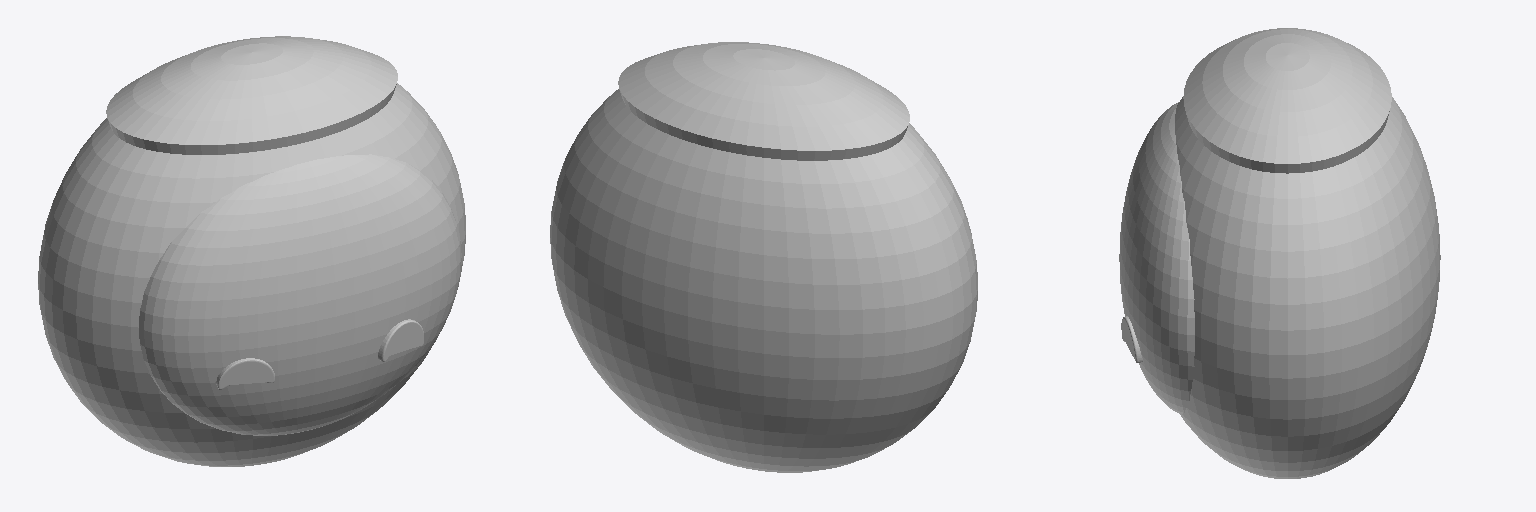
Rendered from Head.obj.
3 views of the same model, side by side, from view 1: azimuth 30°, elevation 25°; view 2: azimuth 150°, elevation 25°; view 3: azimuth 270°, elevation 25° (orthographic).
Parts seen in each view (by area): view 1: Head, Front, Left_eye, Right_eye; view 2: Head; view 3: Head, Front.
Boxes of the visible parts, x1=… form: Head: x1=38, y1=36, x2=465, y2=466; Front: x1=139, y1=154, x2=461, y2=435; Left_eye: x1=216, y1=358, x2=274, y2=389; Right_eye: x1=378, y1=319, x2=423, y2=361; Head: x1=550, y1=42, x2=977, y2=472; Head: x1=1175, y1=28, x2=1440, y2=478; Front: x1=1119, y1=102, x2=1194, y2=414.
Bounding box in the file's own units: 65.27 × 62.56 × 45.36.